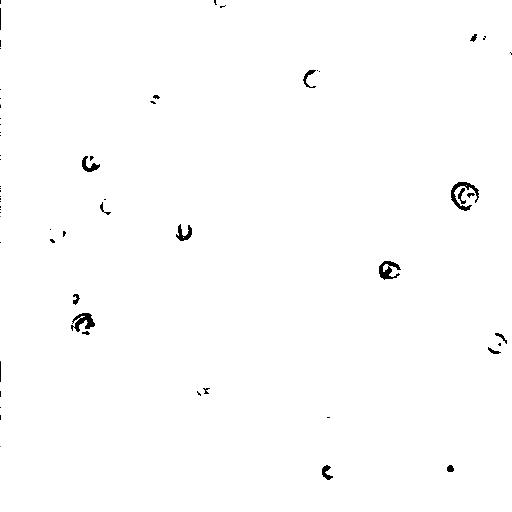micro-algae: (41, 216, 73, 253), (75, 313, 109, 345), (463, 21, 496, 53), (448, 181, 481, 211), (227, 232, 258, 261), (437, 453, 463, 483), (90, 195, 121, 218), (482, 329, 507, 355), (69, 311, 94, 334), (377, 258, 404, 279), (301, 67, 325, 88), (79, 151, 101, 171), (1, 1, 12, 37), (319, 462, 337, 481), (174, 219, 191, 239), (0, 389, 11, 417), (65, 289, 84, 304), (503, 26, 511, 53), (211, 1, 232, 9)
